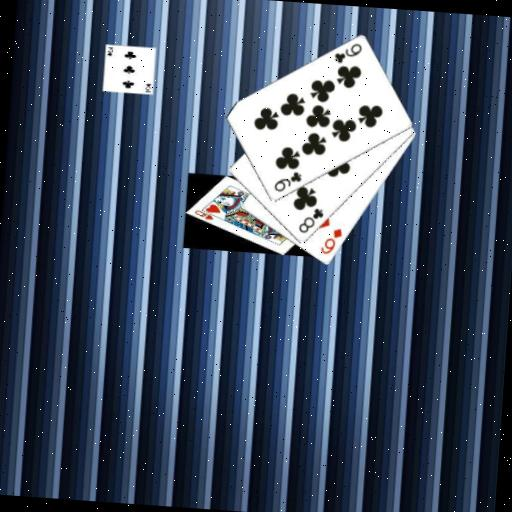6D: (318, 224, 345, 257)
8C: (295, 204, 326, 236)
9C: (271, 167, 304, 195), (331, 39, 364, 67)
